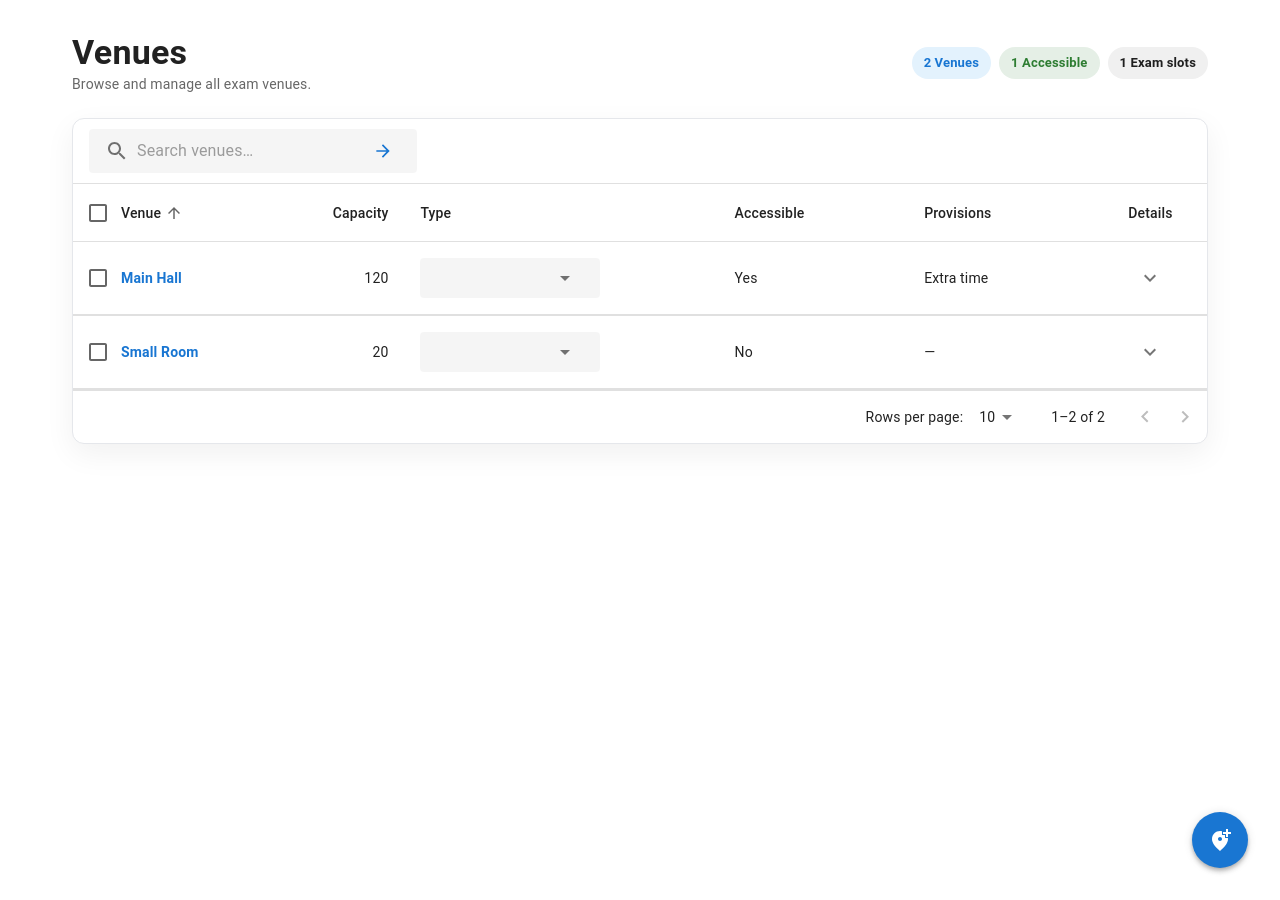
Test: AdminVenues › filters venues using search input
The image size is (1280, 900).
Expected: the link "Main Hall" is shown, [121,270,182,286]
In the field with placeholder "Search venues…": (247, 151) [137,135,357,167], type "small"
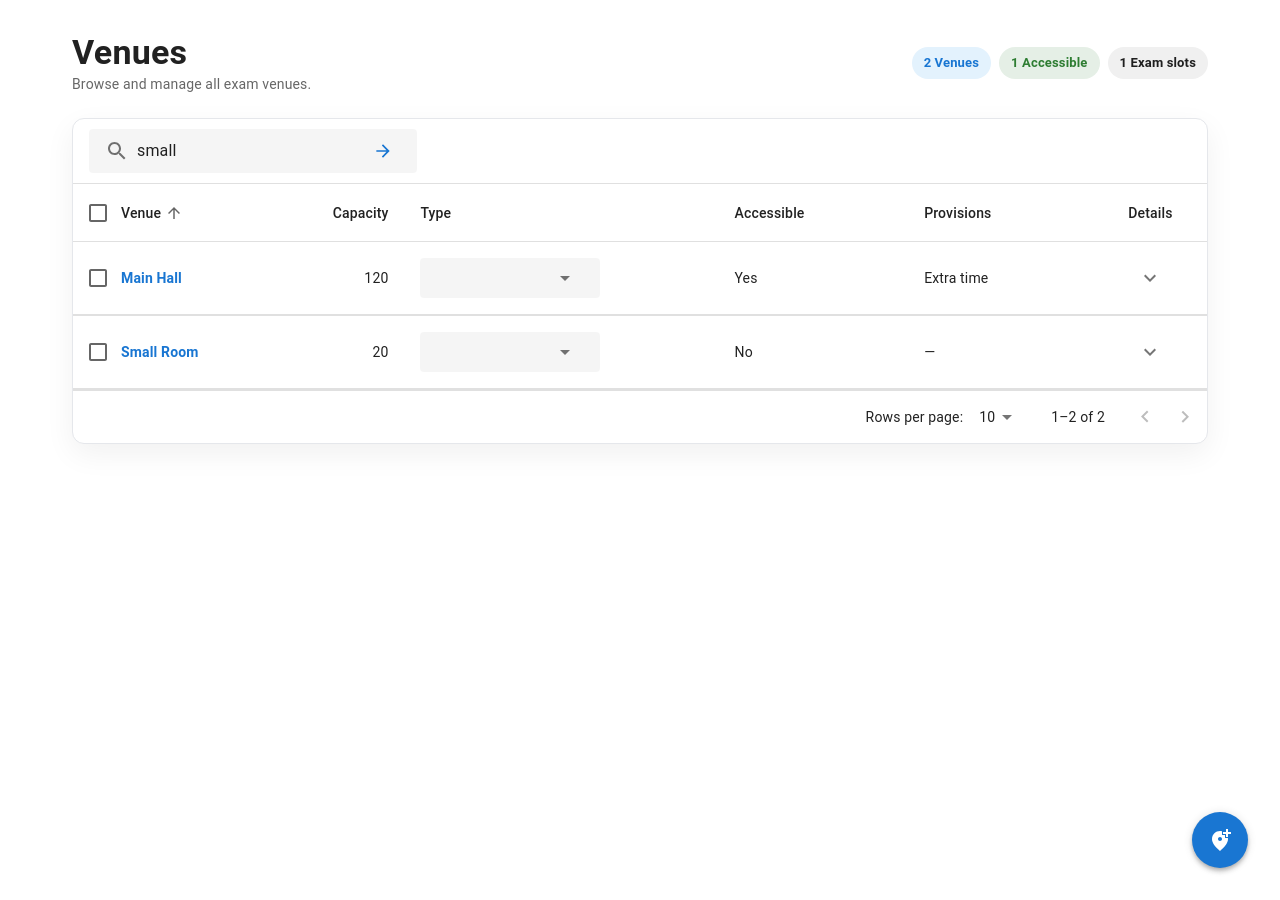
Click the button named "apply search": (383, 151) [365,133,401,169]
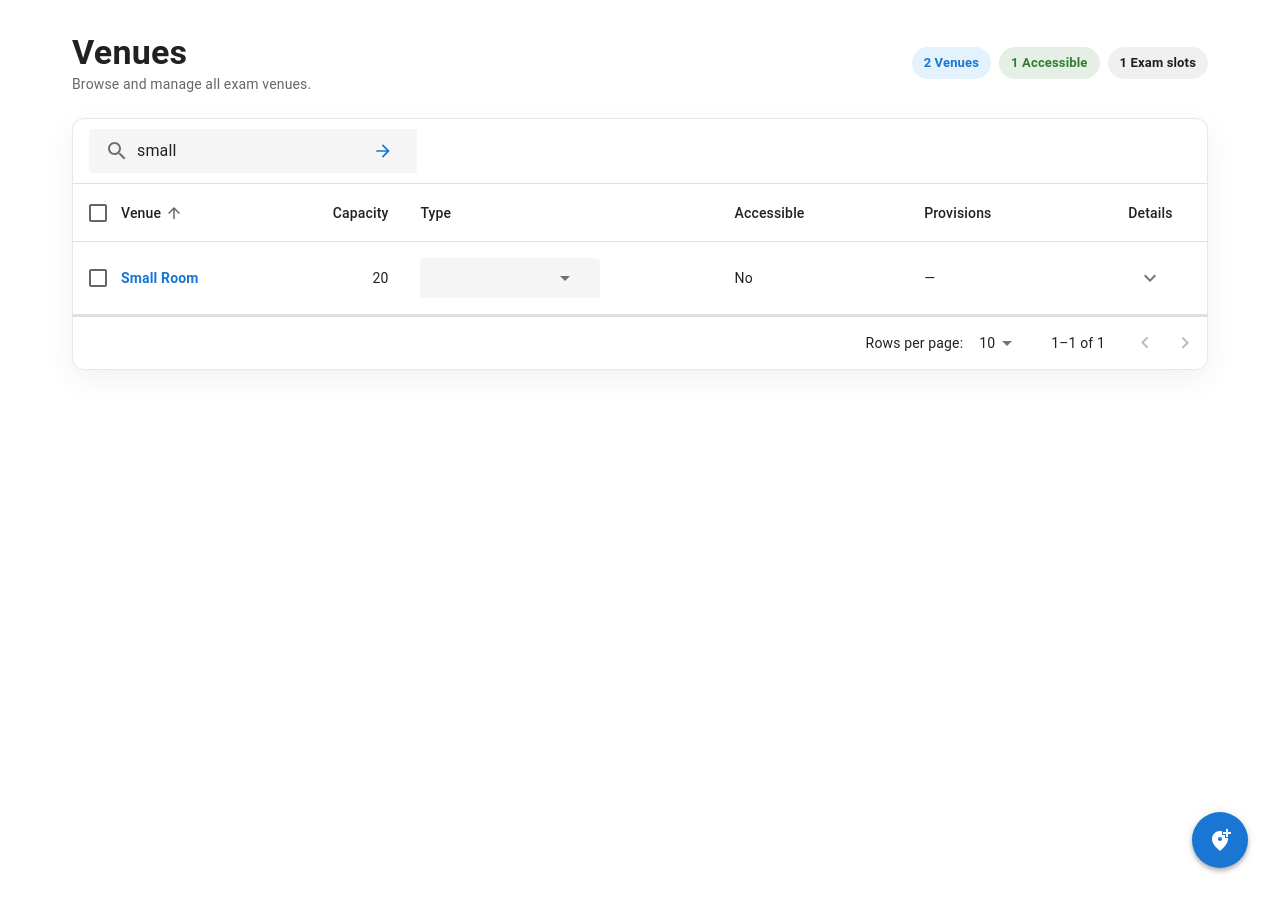
Expected: the link "Small Room" is shown, [121,270,198,286]
Expected: the link "Main Hall" is gone
